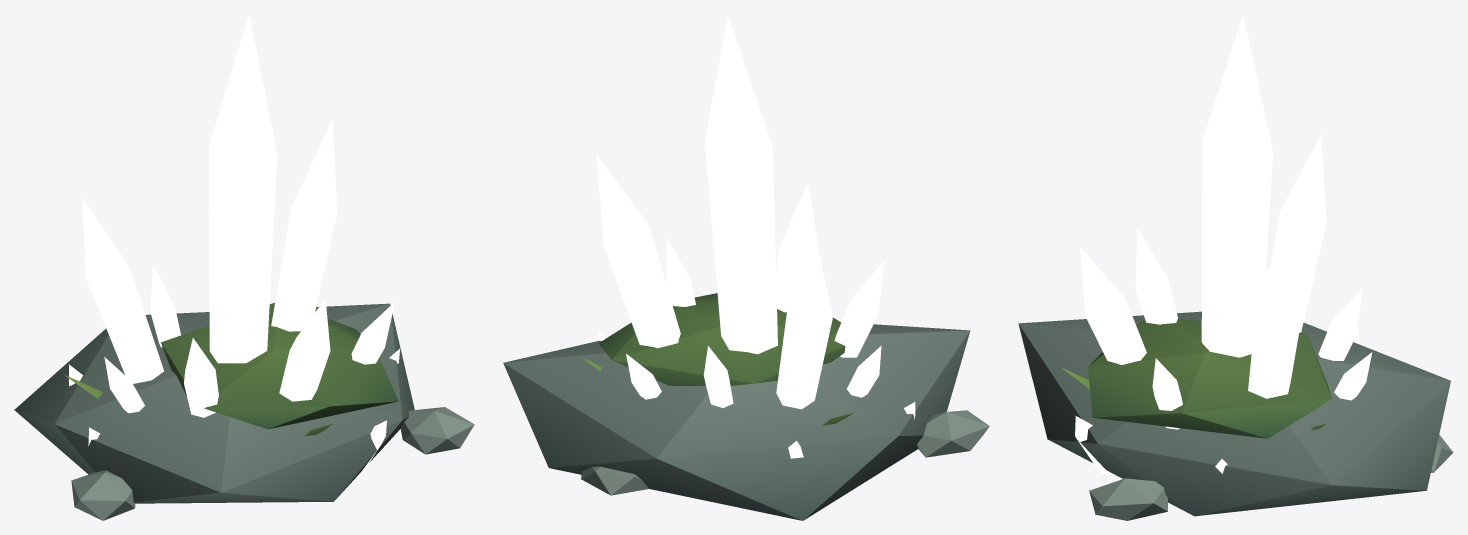
Rendered from crystal-cluster-l.glb.
The picture shows the model from 3 angles, left to right: view 1: azimuth 30°, elevation 25°; view 2: azimuth 150°, elevation 25°; view 3: azimuth 270°, elevation 25°; orthographic projection. The views are drawn at different scales.
Visible parts, largest first — view 1: gg_crystal_cluster_l; view 2: gg_crystal_cluster_l; view 3: gg_crystal_cluster_l.
Part boxes in pixels (bbox=[...]): gg_crystal_cluster_l: bbox=[14, 14, 474, 520]; gg_crystal_cluster_l: bbox=[503, 14, 989, 520]; gg_crystal_cluster_l: bbox=[1018, 14, 1453, 520].
Bounding box in the file's own units: 1.96 × 1.99 × 1.78.
